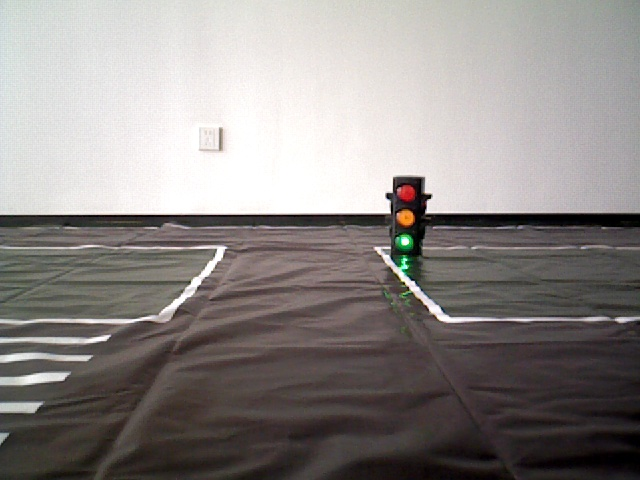green: (393, 183, 416, 251)
